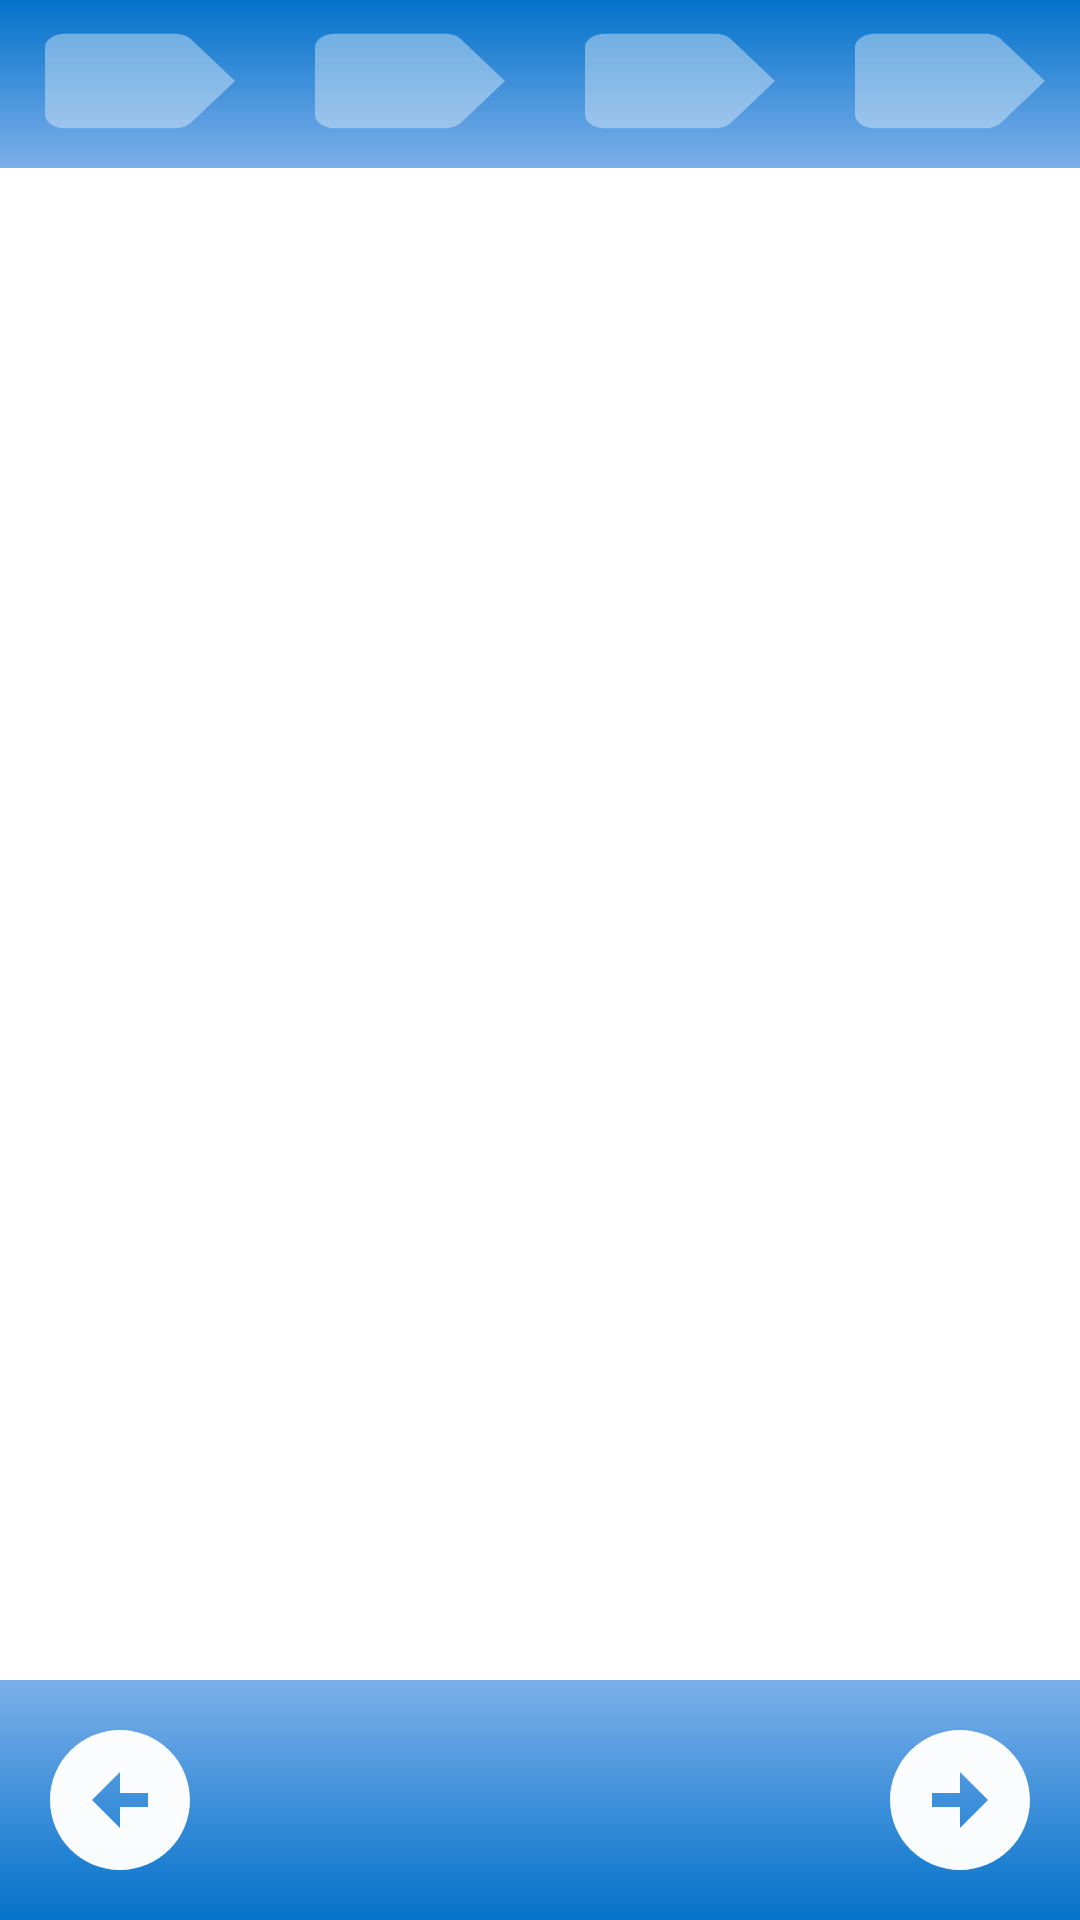

Point at icon controls on the screen. Image size 1080px×1920px, points as (x,y).
lebel: (135,65), (405,81), (675,81), (945,65)
left: (120,1800)
right: (960,1800)
